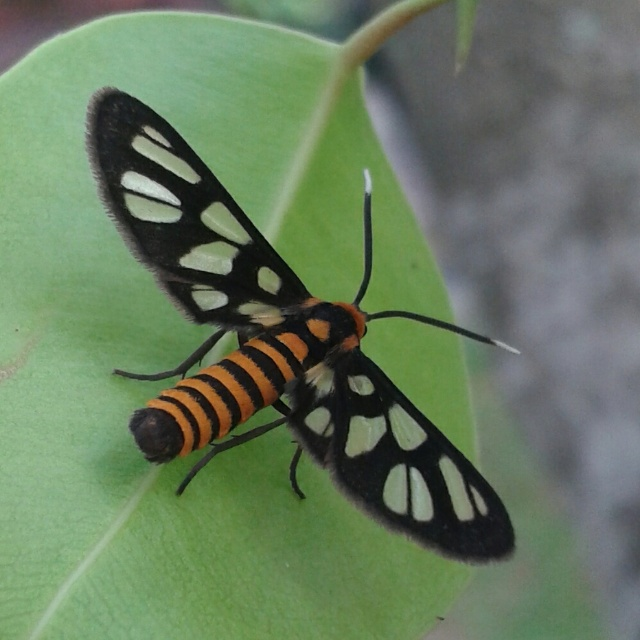Moths and butterflies: (78, 86, 517, 573)
